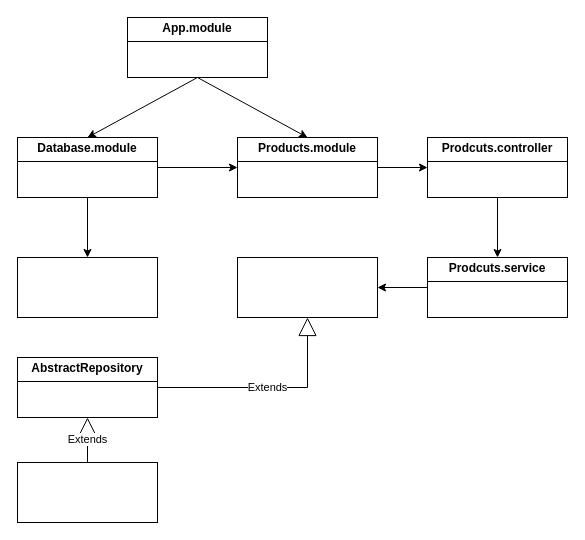
The diagram is 585 pixels wide and 540 high, and some of its shapes have lost their labels. The centre of each missing label's shape, as x and y in pixels:
"AbstractDB" belongs at point 87,492.
"DatabaseProvider" belongs at point 87,287.
"Prodcuts.repository" belongs at point 307,287.
